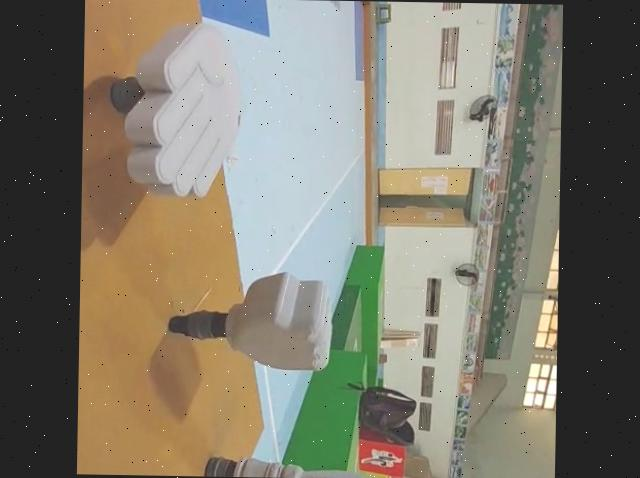Fist: (166, 268, 334, 373)
Hand: (102, 21, 243, 202)
Sph: (198, 453, 476, 478)
